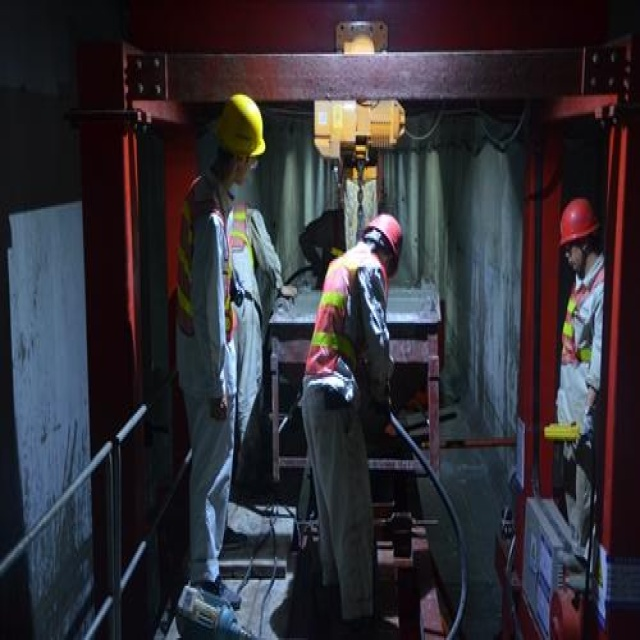Helmet: (195, 75, 284, 212), (547, 176, 617, 290), (349, 195, 423, 290)
Reflective vest: (308, 245, 386, 399)
